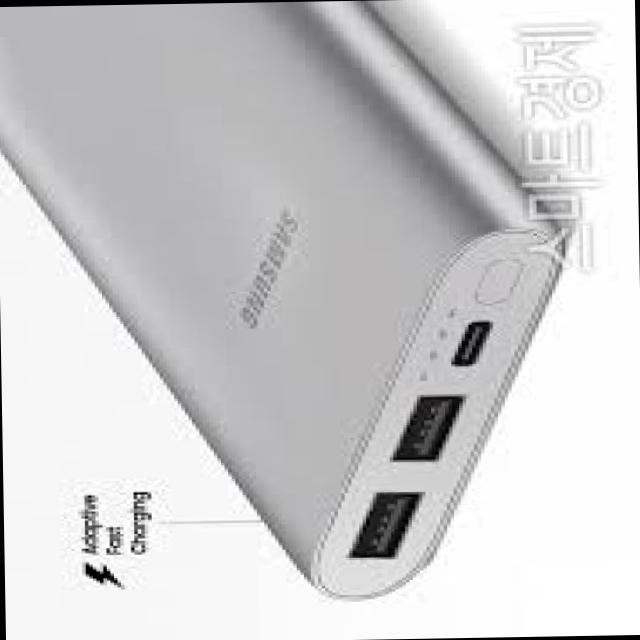power_bank: (0, 0, 567, 608)
